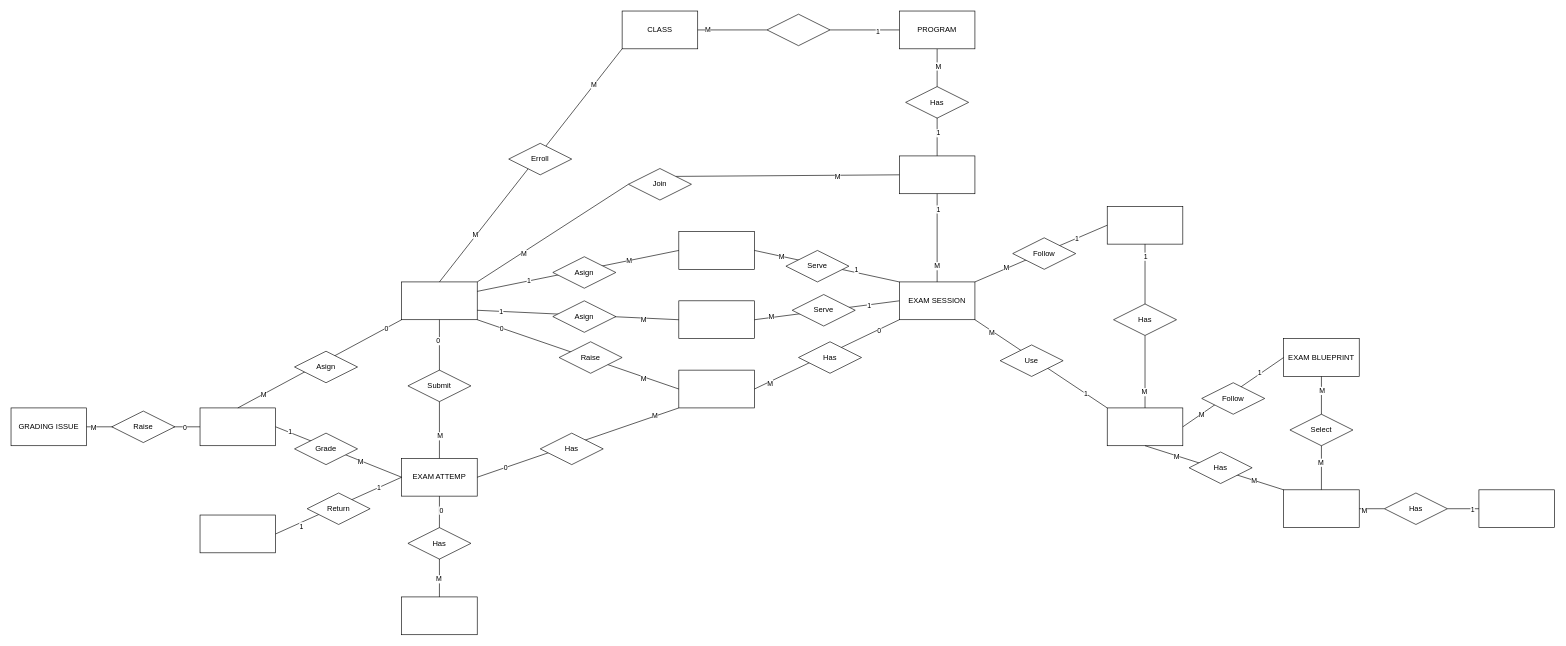
Image size: 1566x646. Some labels were removed from this diagram. The box of each missing label's shape, as (x1, y1, x2, y2) in pixels:
ATTEMP ANSWER: (401, 596, 477, 635)
Contain: (766, 14, 830, 46)
EXAM DEFINITION: (1107, 206, 1183, 244)
EXAM INCIDENT: (678, 369, 754, 408)
EXAM REGISTRATION: (678, 300, 754, 339)
EXAM SESSION PROCTOR: (678, 231, 754, 269)
EXAM VERSION: (1107, 407, 1183, 446)
GRADING ASSIGNMENT: (199, 407, 276, 446)
ORGANIZTION: (899, 155, 975, 194)
QUESTION: (1283, 489, 1359, 528)
QUESTION TYPE: (1478, 489, 1555, 528)
RESULT: (199, 514, 276, 553)
USER: (401, 281, 477, 320)
